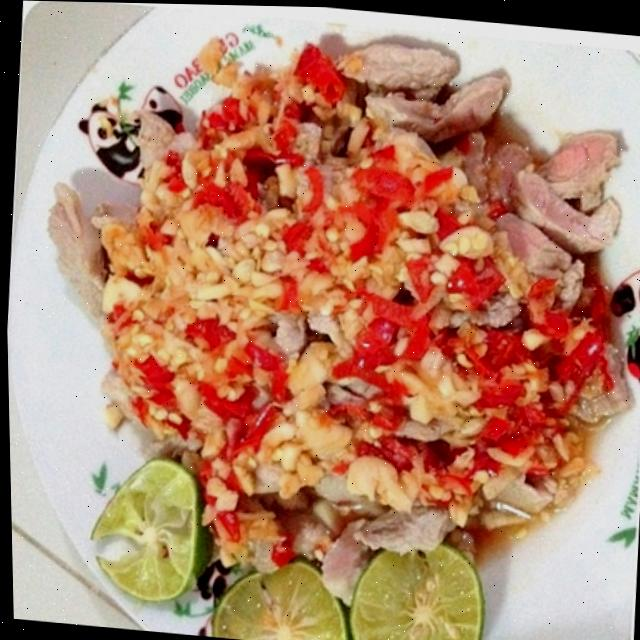猪肉菜式: (21, 13, 640, 640)
